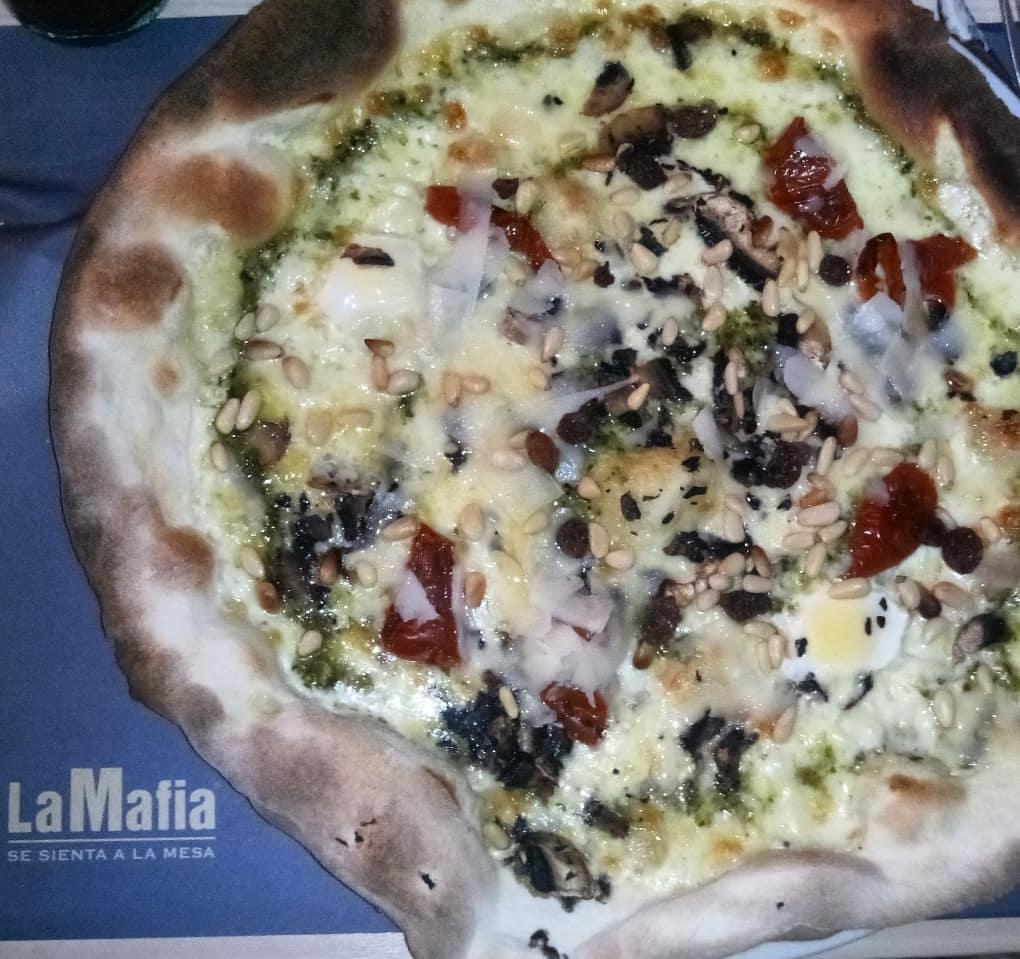Arugula: (564, 351, 808, 476), (624, 94, 746, 236), (448, 674, 577, 783)
Cheese: (311, 274, 558, 506), (641, 654, 971, 807), (474, 504, 641, 660), (469, 67, 611, 158)
Pepperoni: (348, 501, 464, 668), (415, 185, 564, 284), (848, 227, 968, 341), (839, 454, 944, 584), (778, 94, 861, 241)
Pizza: (58, 0, 1020, 959)
